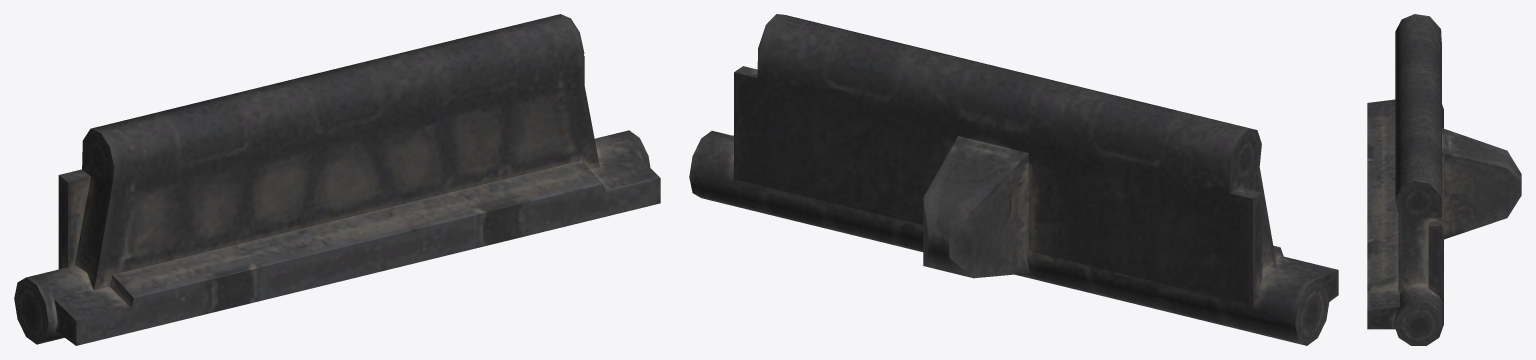
3 views of the same model, side by side, from view 1: azimuth 30°, elevation 25°; view 2: azimuth 150°, elevation 25°; view 3: azimuth 270°, elevation 25° (orthographic). The views are drawn at different scales.
Visible parts, largest first — view 1: set_0_group_0; view 2: set_0_group_0; view 3: set_0_group_0.
Boxes of the visible parts, box(x1,y1,x2,y2) form: set_0_group_0: box(14, 14, 660, 345); set_0_group_0: box(689, 14, 1338, 345); set_0_group_0: box(1367, 14, 1521, 345).
Size of the model in its own units: 0.596 by 0.1828 by 0.1814.
1 material, 1 textured.
